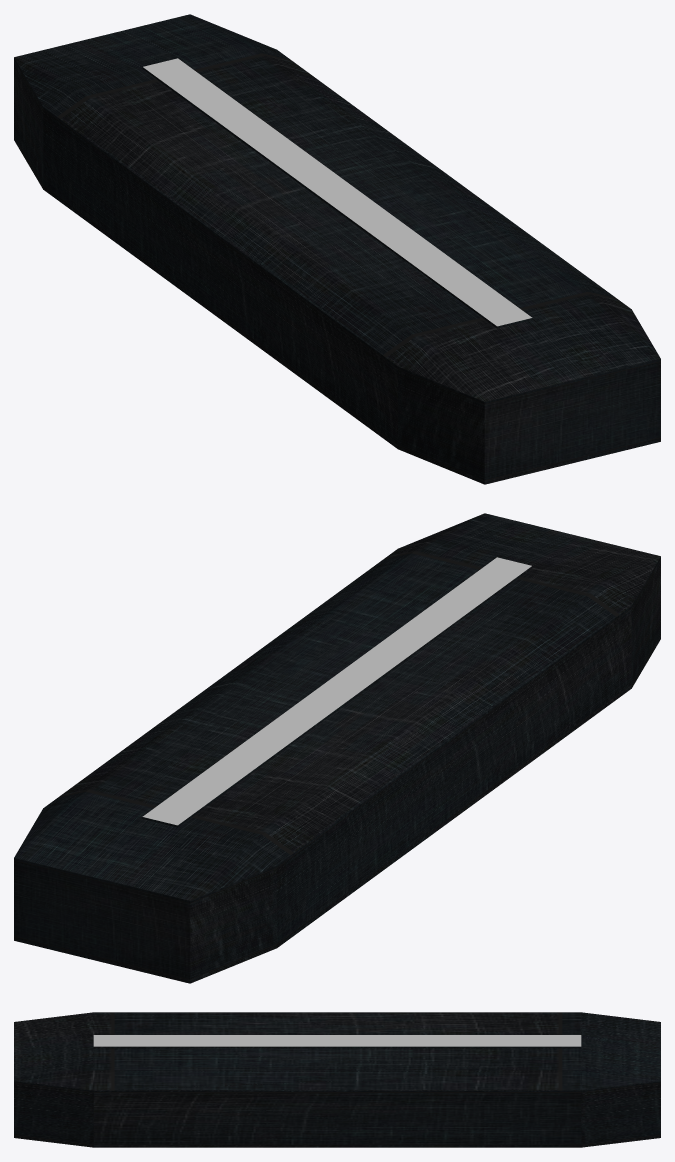
The model's file is cartychera.fbx.
3 renders of one model, top to bottom at view 1: azimuth 30°, elevation 25°; view 2: azimuth 150°, elevation 25°; view 3: azimuth 270°, elevation 25°, orthographic. The views are drawn at different scales.
Parts seen in each view (by area): view 1: Cube; view 2: Cube; view 3: Cube.
Boxes of the visible parts, box(x1,y1,x2,y2) form: Cube: box(14, 14, 660, 484); Cube: box(14, 513, 660, 983); Cube: box(14, 1012, 660, 1147).
Bounding box in the file's own units: 22.54 × 10.32 × 78.58.
2 materials, 1 textured.
